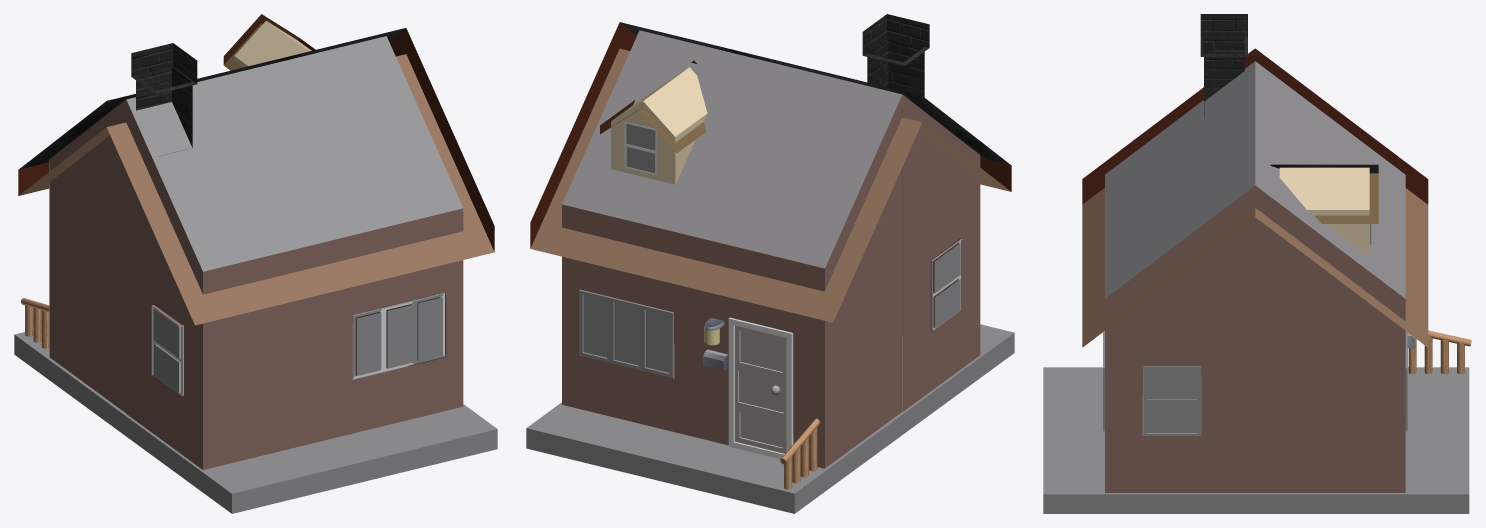
Rendered from hOUSE2.fbx.
The picture shows the model from 3 angles, left to right: view 1: azimuth 30°, elevation 25°; view 2: azimuth 150°, elevation 25°; view 3: azimuth 270°, elevation 25°; orthographic projection. The views are drawn at different scales.
Visible parts, largest first — view 1: Cube, Cube.001, Cylinder; view 2: Cube, Cube.001, Cube.002, Cylinder; view 3: Cube, Cube.001, Cylinder.
Part boxes in pixels (x1,y1,x2,y2): Cube: (14, 28, 497, 513); Cube.001: (131, 14, 446, 396); Cylinder: (25, 304, 49, 348); Cube: (526, 22, 1014, 513); Cube.001: (579, 14, 962, 459); Cube.002: (735, 325, 786, 453); Cylinder: (784, 428, 817, 489); Cube: (1043, 48, 1469, 513); Cube.001: (1103, 14, 1407, 435); Cylinder: (1408, 336, 1464, 374).
Size of the model in its own units: 225 by 275 by 285.
